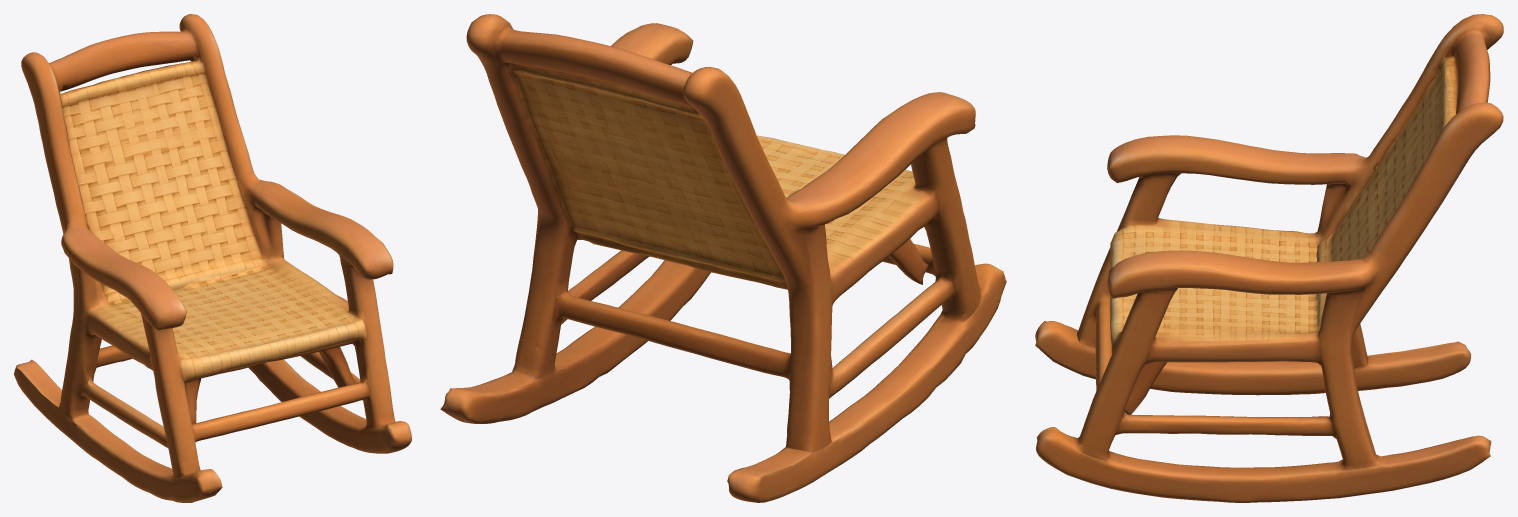
Rendered from rocking-chair.glb.
The picture shows the model from 3 angles, left to right: view 1: azimuth 30°, elevation 25°; view 2: azimuth 150°, elevation 25°; view 3: azimuth 270°, elevation 25°; orthographic projection. The views are drawn at different scales.
Parts seen in each view (by area): view 1: tripo_node_14314a80; view 2: tripo_node_14314a80; view 3: tripo_node_14314a80.
Boxes of the visible parts, box(x1,y1,x2,y2) form: tripo_node_14314a80: box(14, 14, 411, 502); tripo_node_14314a80: box(440, 14, 1006, 502); tripo_node_14314a80: box(1035, 14, 1503, 502).
Size of the model in its own units: 67.85 by 90.81 by 99.52.
1 material, 1 textured.
